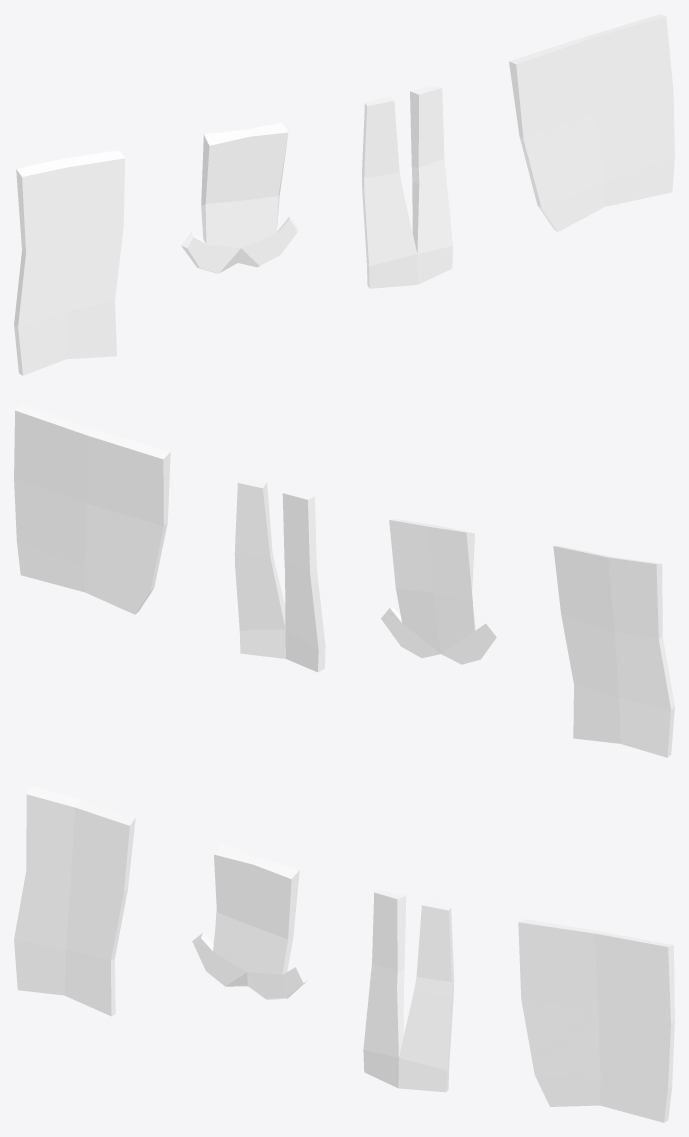
File: dryer-outside-clothes.glb
3 views of the same model, one above another, from view 1: azimuth 30°, elevation 25°; view 2: azimuth 150°, elevation 25°; view 3: azimuth 330°, elevation 25° (orthographic).
Visible parts, largest first — view 1: dryer-outside-clothes; view 2: dryer-outside-clothes; view 3: dryer-outside-clothes.
Boxes of the visible parts, x1,y1,x2,y2 form: dryer-outside-clothes: (14, 14, 674, 375); dryer-outside-clothes: (14, 404, 674, 757); dryer-outside-clothes: (14, 786, 674, 1122).
Bounding box in the file's own units: 3.24 × 0.9513 × 0.1614.
1 material, 1 textured.
